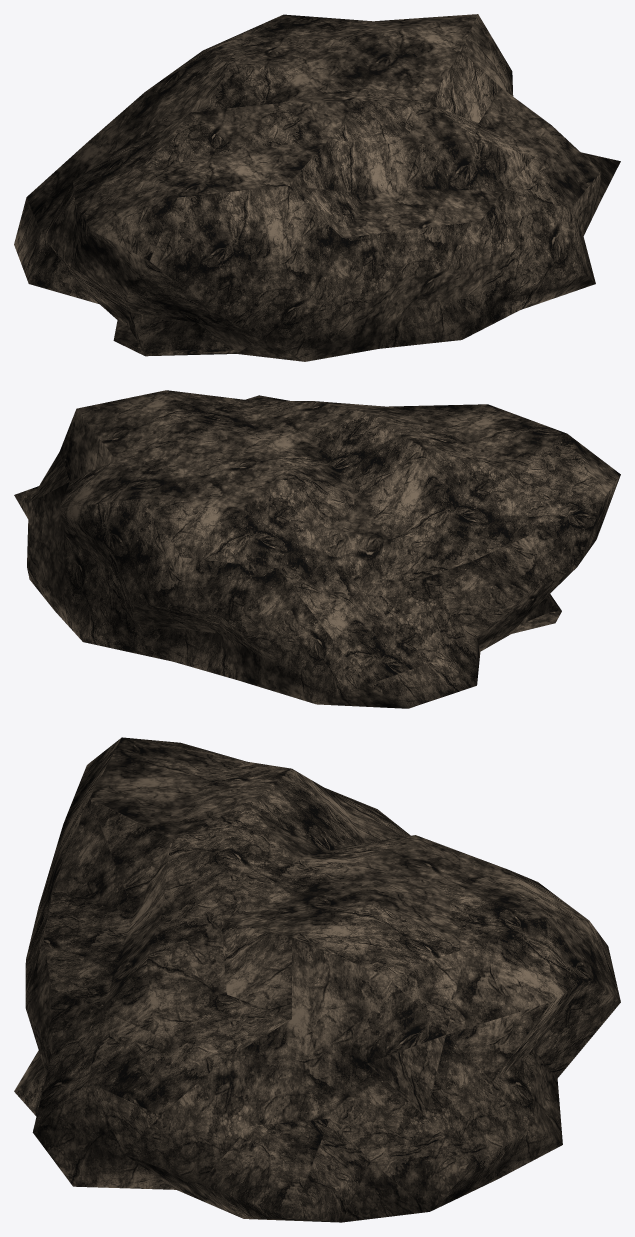
File: rock_1.gltf
3 renders of one model, top to bottom at view 1: azimuth 30°, elevation 25°; view 2: azimuth 150°, elevation 25°; view 3: azimuth 270°, elevation 25°, orthographic. The views are drawn at different scales.
Parts seen in each view (by area): view 1: rock; view 2: rock; view 3: rock.
Boxes of the visible parts, <box> form: rock: <box>14,14,620,361</box>; rock: <box>14,390,620,708</box>; rock: <box>14,737,620,1222</box>.
Bounding box in the file's own units: 68.86 × 21.78 × 50.96.
Materials: 1 (1 with a texture image).
